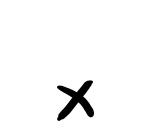mult: (55, 82, 96, 120)
